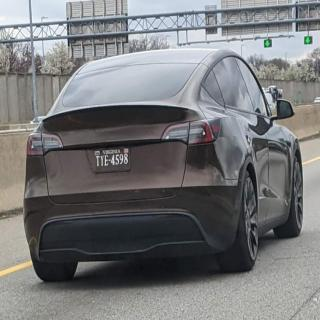license: (94, 145, 131, 175)
